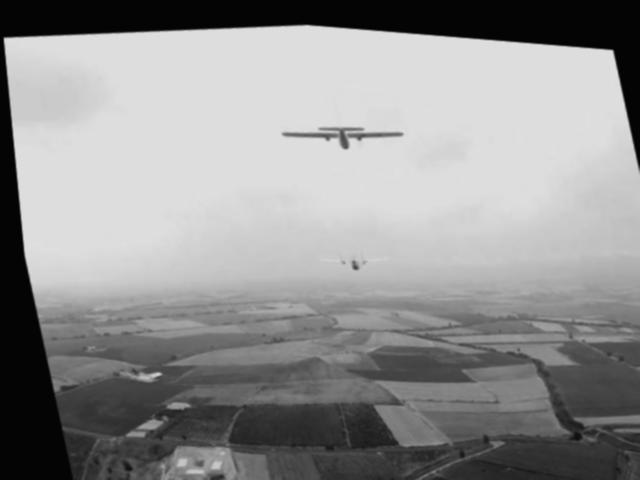hedef: (267, 89, 429, 179), (306, 226, 390, 287)
